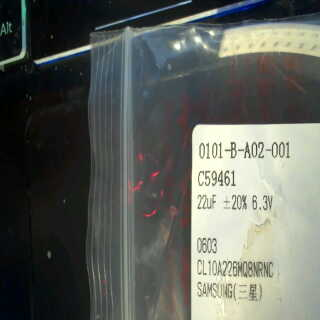22uF: (195, 192, 221, 212)
